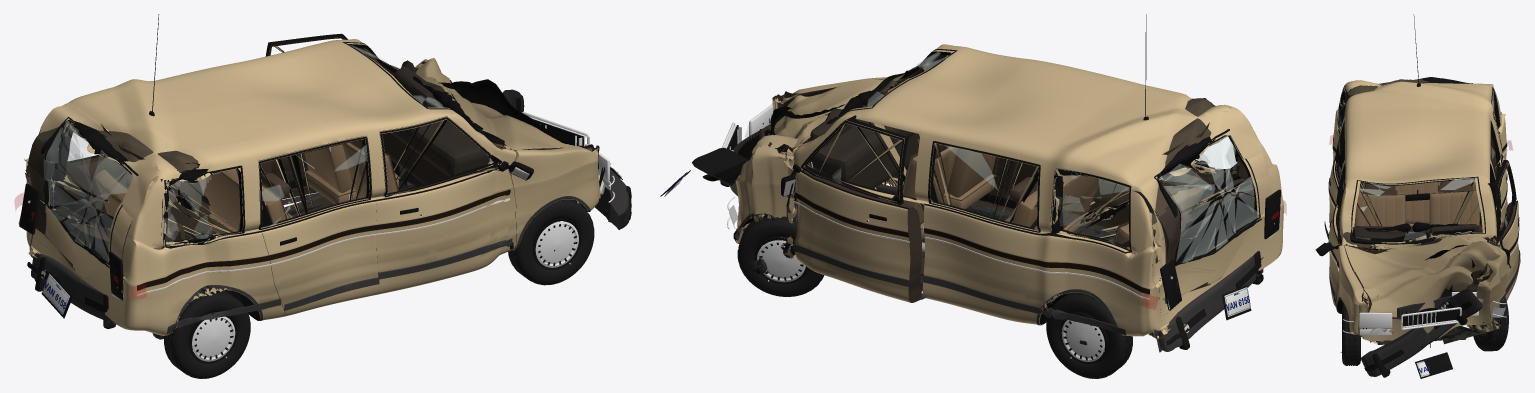
Rendered from minivan86_front_corner_d2.glb.
The picture shows the model from 3 angles, left to right: view 1: azimuth 30°, elevation 25°; view 2: azimuth 150°, elevation 25°; view 3: azimuth 270°, elevation 25°; orthographic projection. The views are drawn at different scales.
Parts seen in each view (by area): view 1: Body, Interior, Door_FR, Door_SR, Glass_Liftgate, Liftgate, Wheel_RR_mesh, Wheel_FR_mesh, Hood, Trim, Trim_FR, Ends (+6 smaller); view 2: Body, Interior, Door_FL, Glass_Liftgate, Trim, Liftgate, Wheel_RL_mesh, Wheel_FL_mesh, Hood, Glass, Trim_FL, Ends (+4 smaller); view 3: Body, Hood, Interior, Bumper_F, Ends, Glass, Door_FL, Trim, Door_FR, Wheel_FL_mesh, Wheel_FR_mesh, Trim_FL (+6 smaller).
Part boxes in pixels (left/top/right/bottom): Body: left=24, top=39, right=600, bottom=335; Interior: left=95, top=67, right=491, bottom=240; Door_FR: left=375, top=116, right=516, bottom=294; Door_SR: left=258, top=136, right=378, bottom=316; Glass_Liftgate: left=41, top=117, right=138, bottom=267; Liftgate: left=28, top=103, right=169, bottom=277; Wheel_RR_mesh: left=164, top=291, right=250, bottom=378; Wheel_FR_mesh: left=508, top=199, right=594, bottom=285; Hood: left=413, top=58, right=574, bottom=150; Trim: left=137, top=14, right=590, bottom=334; Trim_FR: left=375, top=117, right=533, bottom=279; Ends: left=18, top=112, right=622, bottom=318; Body: left=730, top=44, right=1283, bottom=339; Interior: left=809, top=94, right=1204, bottom=244; Door_FL: left=794, top=115, right=921, bottom=302; Glass_Liftgate: left=1154, top=129, right=1261, bottom=266; Trim: left=734, top=14, right=1215, bottom=335; Liftgate: left=1128, top=106, right=1271, bottom=303; Wheel_RL_mesh: left=1046, top=292, right=1132, bottom=378; Wheel_FL_mesh: left=737, top=216, right=824, bottom=296; Hood: left=752, top=79, right=884, bottom=153; Glass: left=802, top=49, right=1239, bottom=244; Trim_FL: left=781, top=120, right=926, bottom=299; Ends: left=660, top=104, right=1280, bottom=320; Body: left=1333, top=79, right=1507, bottom=341; Hood: left=1344, top=234, right=1500, bottom=317; Interior: left=1354, top=179, right=1482, bottom=238; Bumper_F: left=1361, top=289, right=1482, bottom=377; Ends: left=1343, top=292, right=1506, bottom=378; Glass: left=1337, top=89, right=1501, bottom=244; Door_FL: left=1488, top=160, right=1520, bottom=300; Trim: left=1329, top=14, right=1507, bottom=347; Door_FR: left=1329, top=163, right=1345, bottom=307; Wheel_FL_mesh: left=1473, top=297, right=1508, bottom=351; Wheel_FR_mesh: left=1340, top=304, right=1360, bottom=365; Trim_FL: left=1498, top=161, right=1520, bottom=295.
Size of the model in its own units: 4.58 by 2.5 by 2.01.
Materials: 34 (5 with a texture image).
